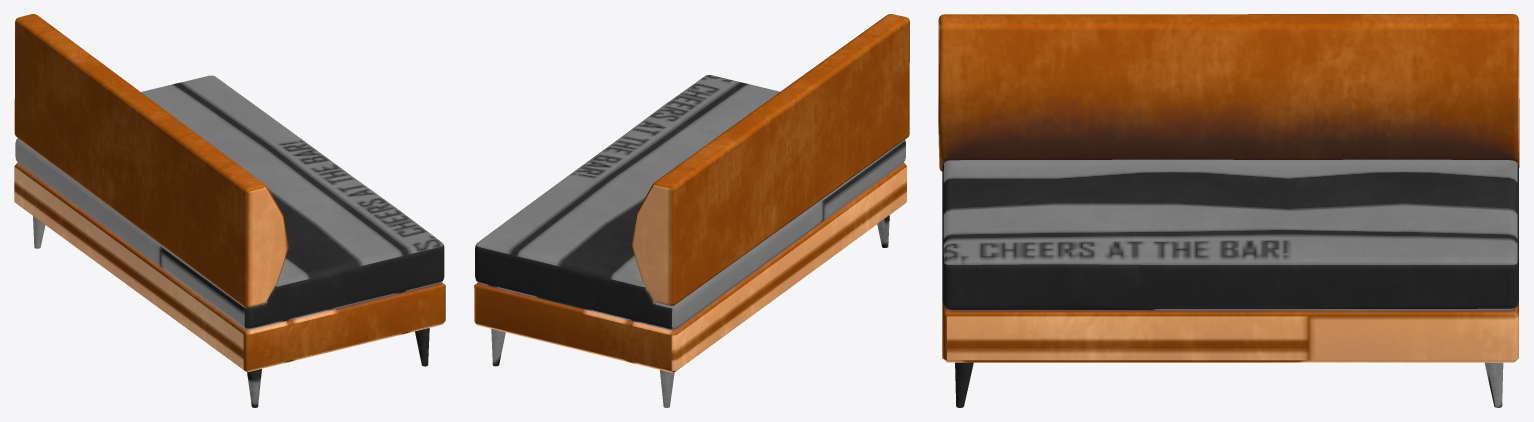
File: SM_OrangeFurniture.fbx
The picture shows the model from 3 angles, left to right: view 1: azimuth 30°, elevation 25°; view 2: azimuth 150°, elevation 25°; view 3: azimuth 270°, elevation 25°; orthographic projection. The views are drawn at different scales.
Visible parts, largest first — view 1: SM_OrangeFurniture_LOD0; view 2: SM_OrangeFurniture_LOD0; view 3: SM_OrangeFurniture_LOD0.
Part boxes in pixels (bbox=[...]): SM_OrangeFurniture_LOD0: bbox=[14, 14, 445, 407]; SM_OrangeFurniture_LOD0: bbox=[474, 14, 909, 407]; SM_OrangeFurniture_LOD0: bbox=[938, 14, 1519, 407].
Bounding box in the file's own units: 70.37 × 141 × 75.6.
Materials: 1 (1 with a texture image).
